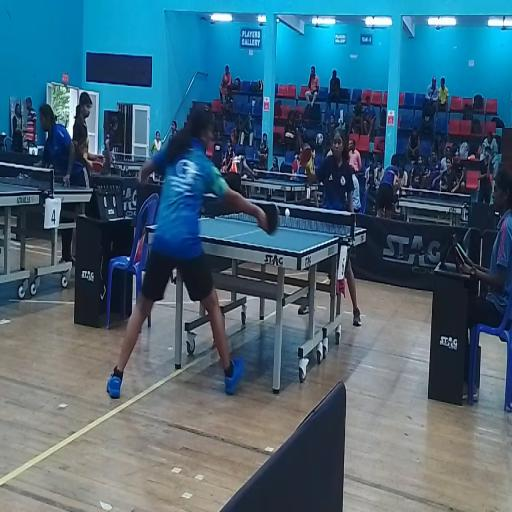ball: (285, 208, 291, 217)
